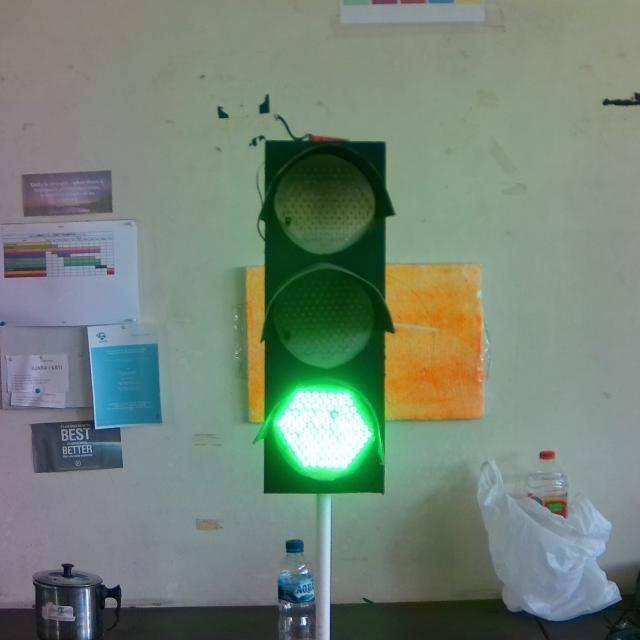green_light: (255, 135, 403, 508)
